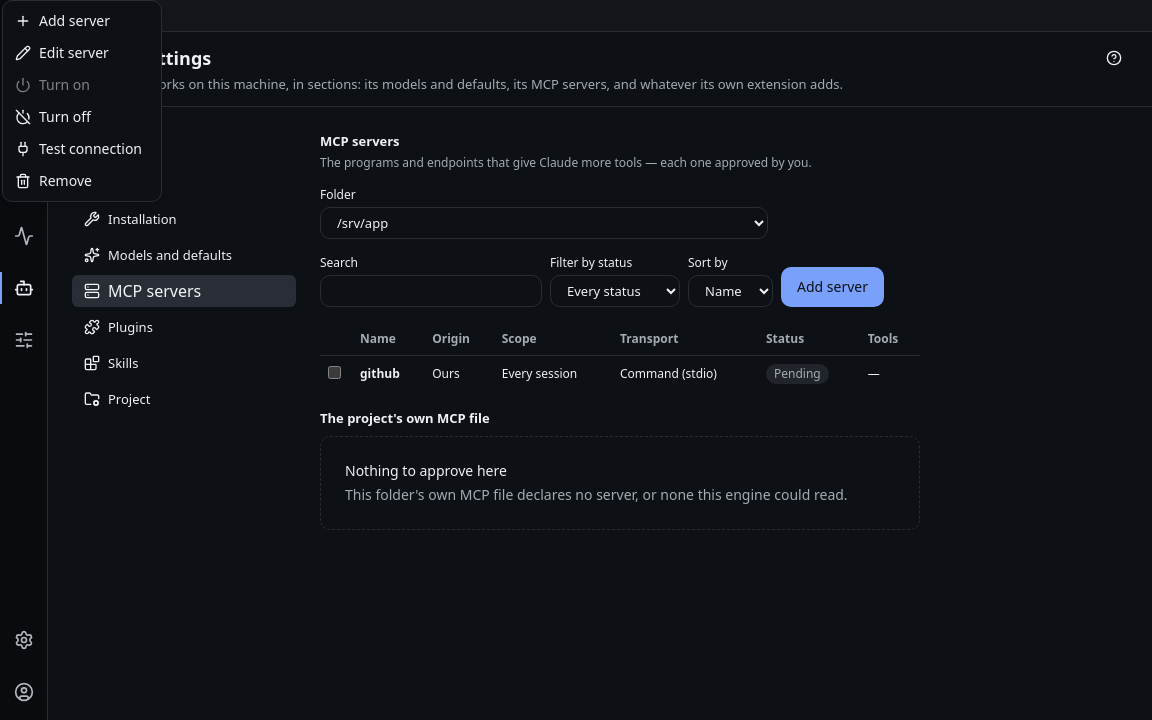
the MCP servers section of the agent settings — plan 13, B-28 › shows an existing secret as "set", never the value — S-133
Expected: the text "github" is shown, [352,356,424,392]
Step 1. Click the menu item "Edit server" → coordinates (62, 52), box [15,43,109,62]
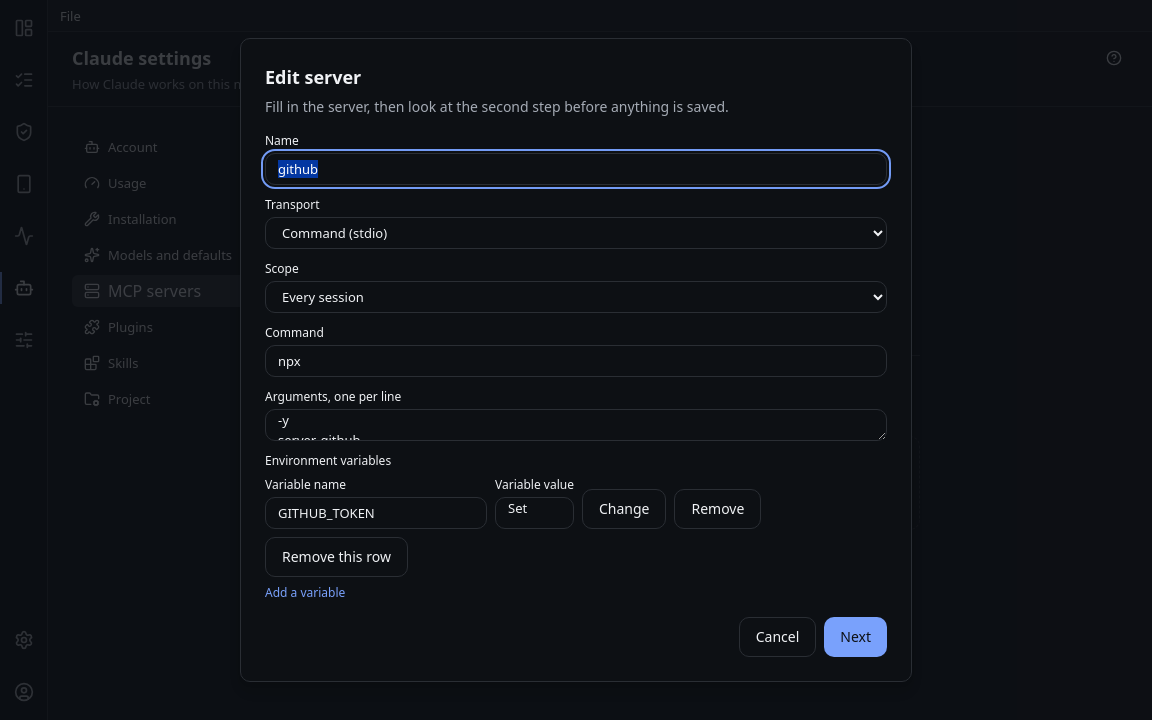
Now the text "Set" is shown, box [495,497,574,529]
Now the field showing "GITHUB_TOKEN" is shown, box [265,497,487,529]
